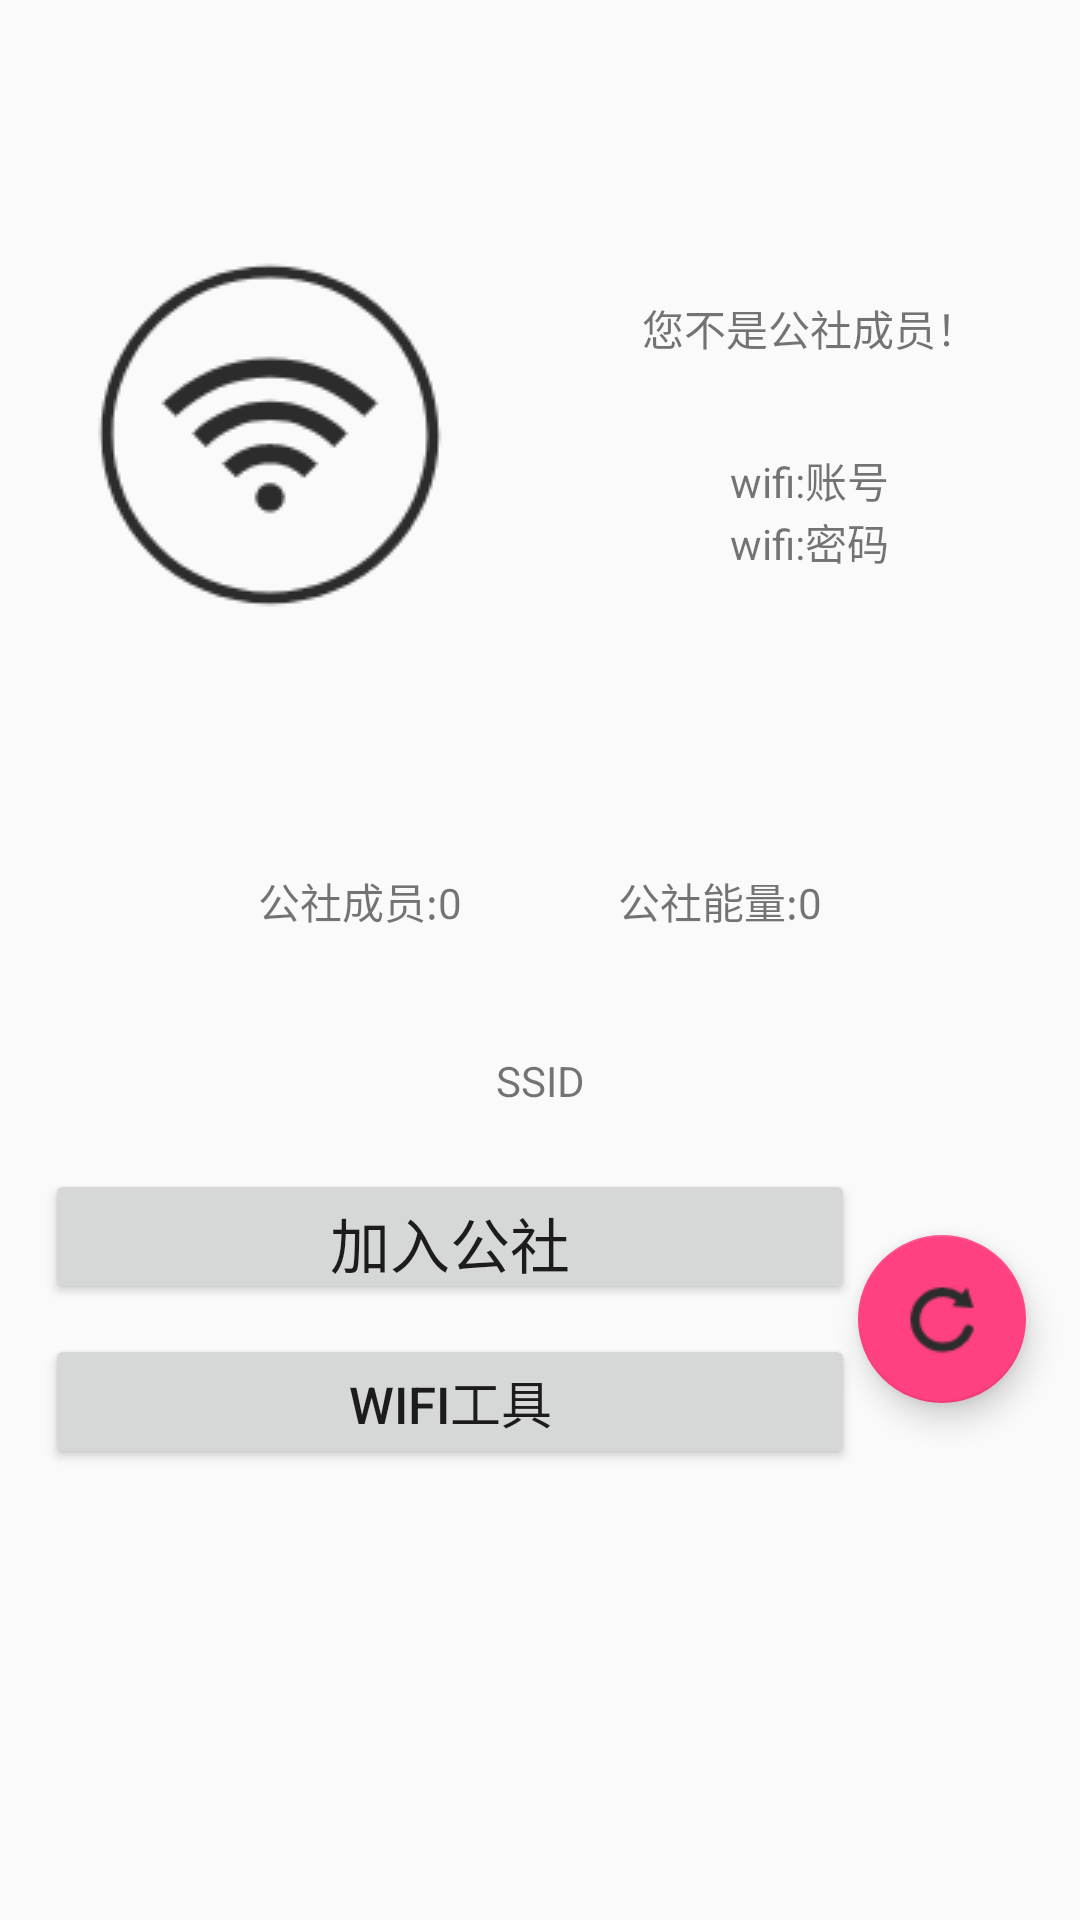

Icon bounding boxes for this 1080*1920 phone screenshot, format (x1, y1, x2, y2):
reset: (858, 1235, 1026, 1403)
wifi: (99, 264, 441, 606)
